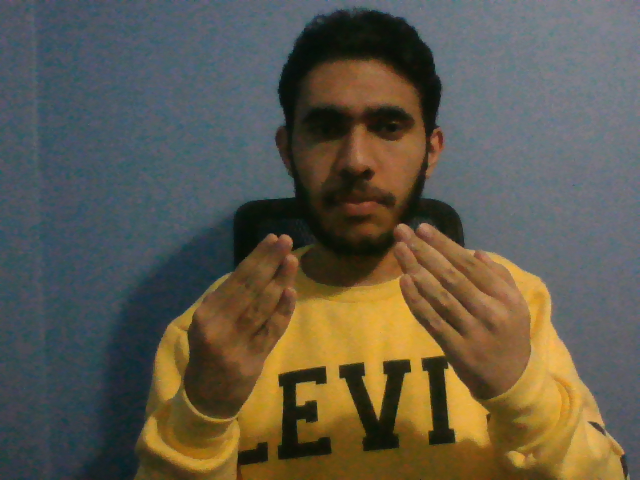thanks: (180, 221, 543, 420)
